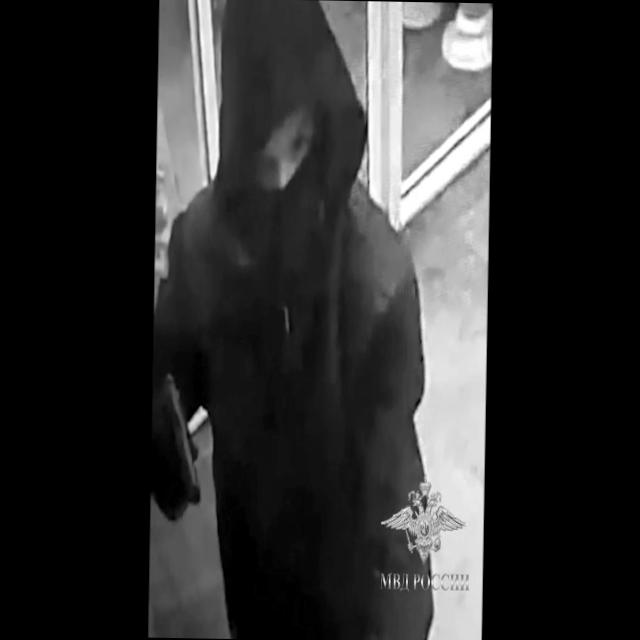gun: (154, 358, 206, 529)
person with a gun: (146, 2, 441, 640)
